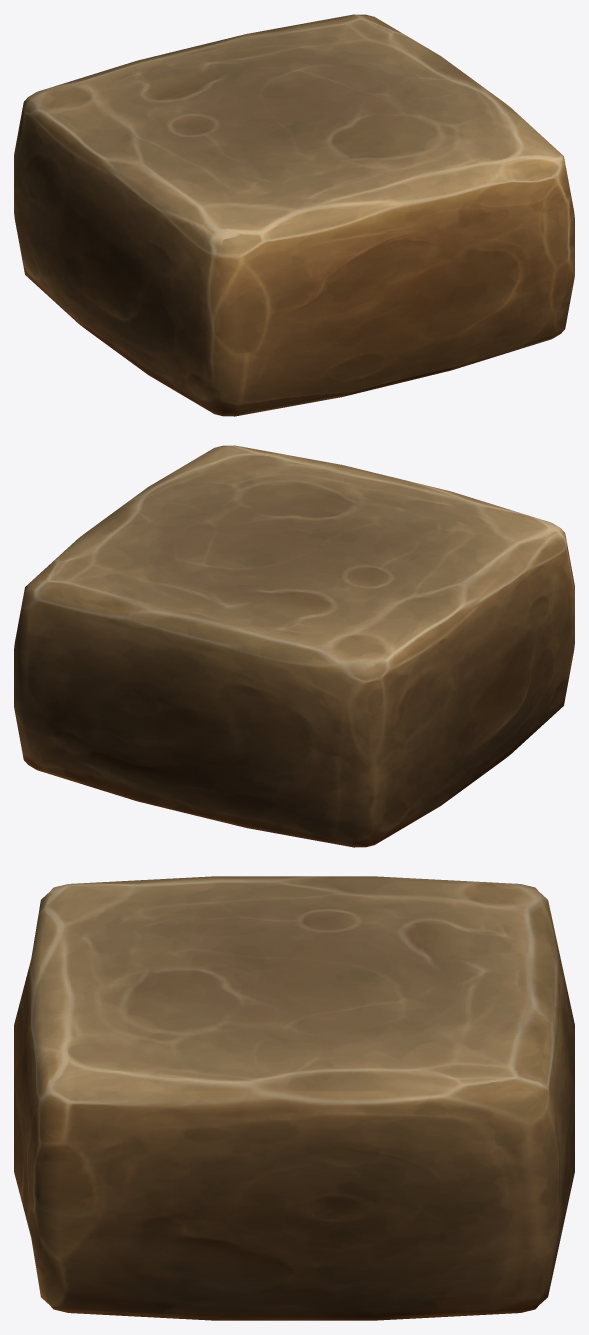
The model's file is sandTile.gltf.
3 renders of one model, top to bottom at view 1: azimuth 30°, elevation 25°; view 2: azimuth 150°, elevation 25°; view 3: azimuth 270°, elevation 25°, orthographic. The views are drawn at different scales.
Visible parts, largest first — view 1: defaultMaterial; view 2: defaultMaterial; view 3: defaultMaterial.
Part boxes in pixels (x1,y1,x2,y2): defaultMaterial: (14, 14, 574, 416); defaultMaterial: (14, 445, 574, 847); defaultMaterial: (14, 876, 574, 1320).
Bounding box in the file's own units: 2.16 × 1.08 × 2.16.
1 material, 1 textured.
